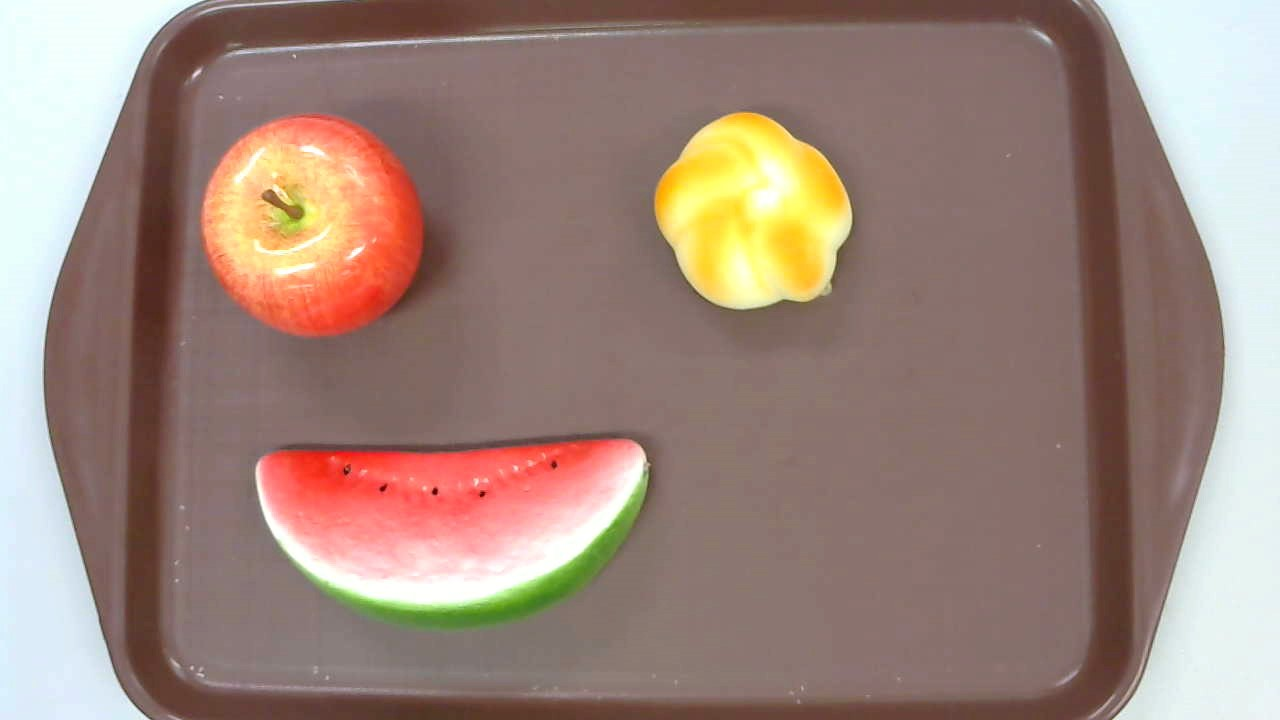red apple: (199, 115, 426, 341)
twist bread: (653, 109, 853, 311)
water melon: (253, 438, 651, 632)
